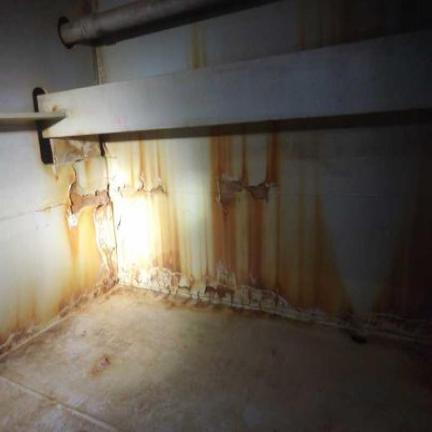karat: (212, 140, 240, 282), (248, 194, 262, 288), (266, 135, 282, 180)
